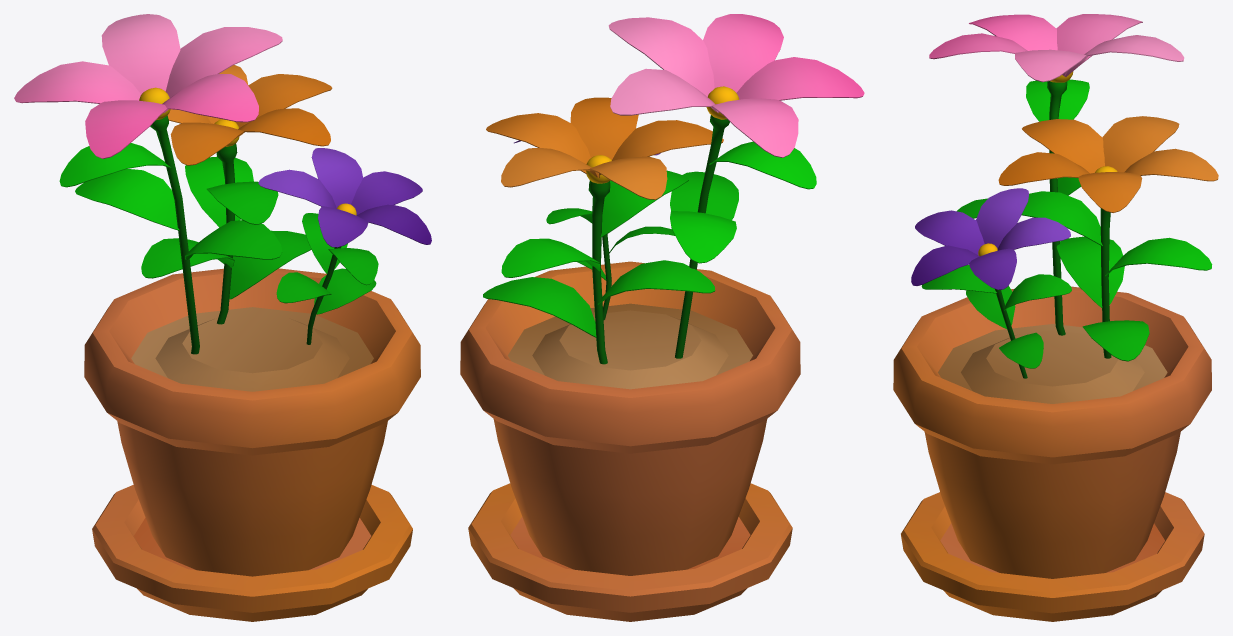
The model's file is Flower Pot_3.fbx.
3 views of the same model, side by side, from view 1: azimuth 30°, elevation 25°; view 2: azimuth 150°, elevation 25°; view 3: azimuth 270°, elevation 25° (orthographic). The views are drawn at different scales.
Visible parts, largest first — view 1: Flower Pot_3; view 2: Flower Pot_3; view 3: Flower Pot_3.
Boxes of the visible parts, x1,y1,x2,y2 form: Flower Pot_3: (14,14,431,621); Flower Pot_3: (460,14,864,621); Flower Pot_3: (893,14,1218,621).
Bounding box in the file's own units: 0.2854 × 0.4262 × 0.2476.
Materials: 1 (1 with a texture image).
